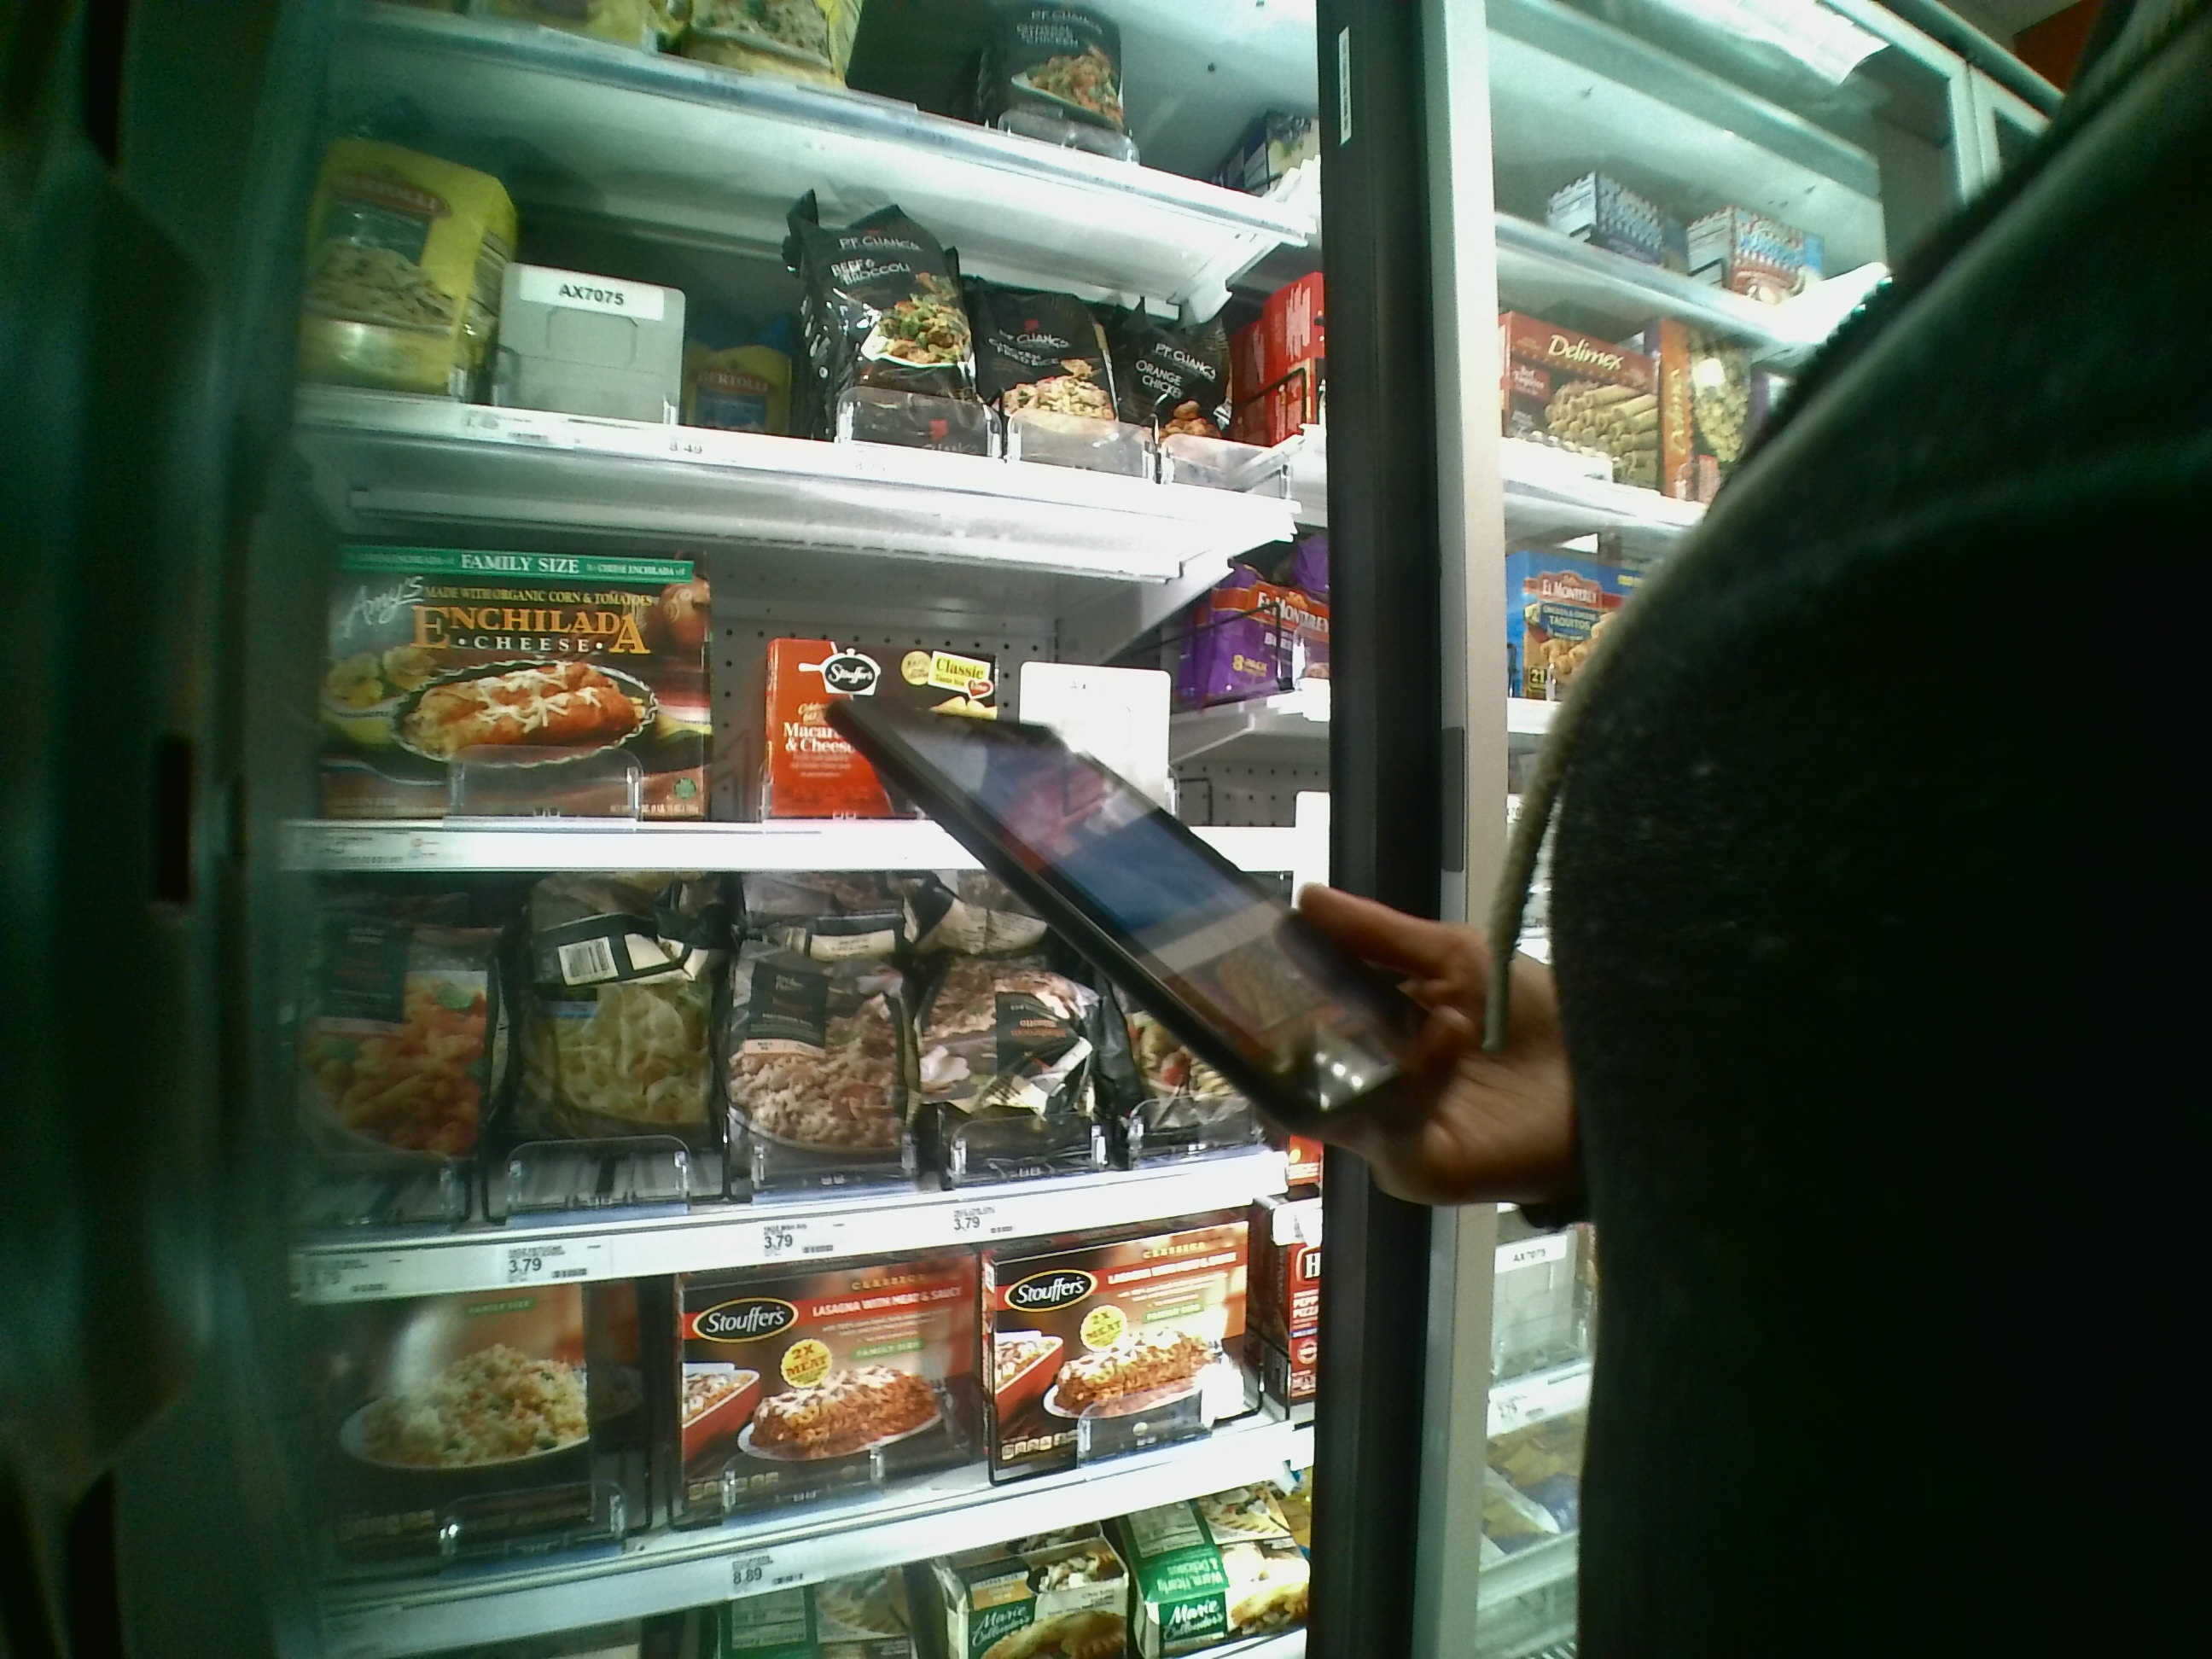shelf: (315, 1197, 1318, 1549), (291, 176, 1310, 507)
